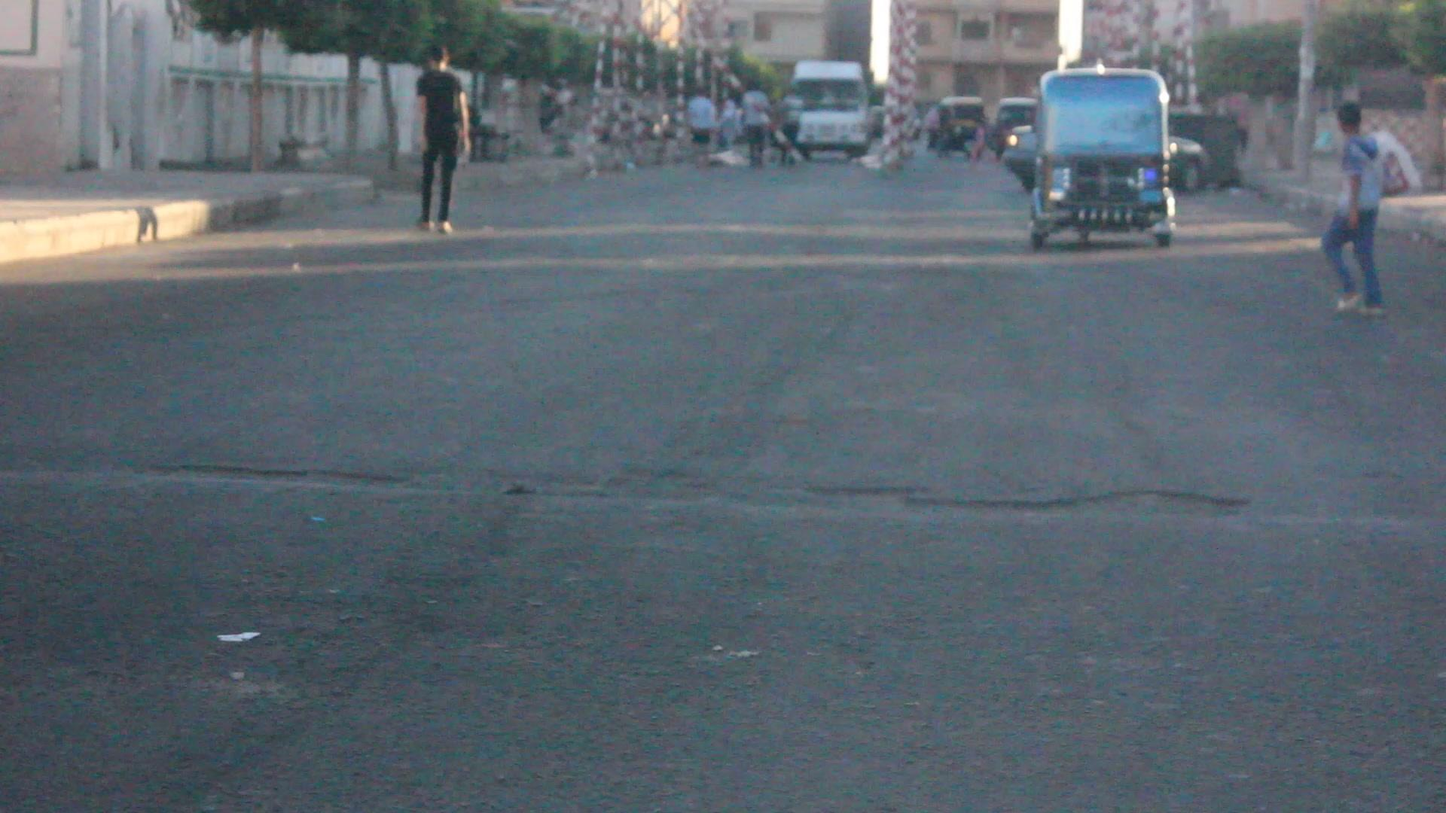Bump: (0, 463, 1446, 726)
Pothole: (810, 457, 1267, 540), (136, 444, 518, 497)
